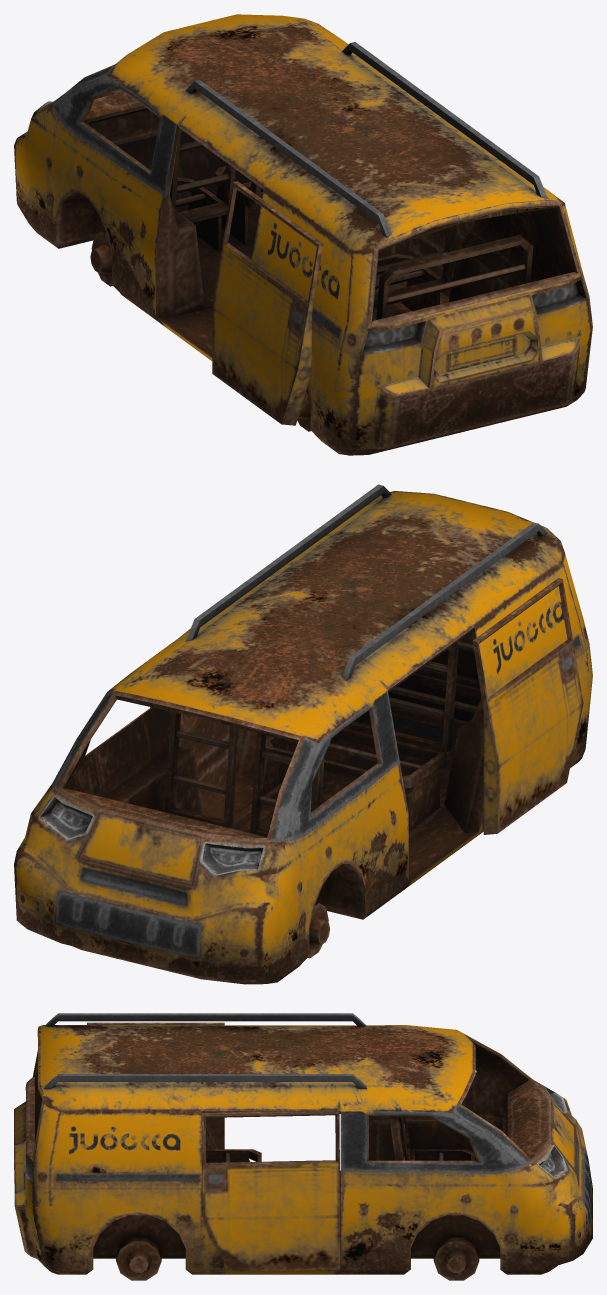
Rendered from van_shell.glb.
The picture shows the model from 3 angles, top to bottom: view 1: azimuth 30°, elevation 25°; view 2: azimuth 150°, elevation 25°; view 3: azimuth 270°, elevation 25°; orthographic projection. The views are drawn at different scales.
Visible parts, largest first — view 1: Object001_Material #56_0; view 2: Object001_Material #56_0; view 3: Object001_Material #56_0.
Part boxes in pixels (x1=…): Object001_Material #56_0: x1=14, y1=14, x2=592, y2=455; Object001_Material #56_0: x1=14, y1=484, x2=592, y2=984; Object001_Material #56_0: x1=14, y1=1013, x2=592, y2=1280.
Bounding box in the file's own units: 122 × 103 × 277.
1 material, 1 textured.
